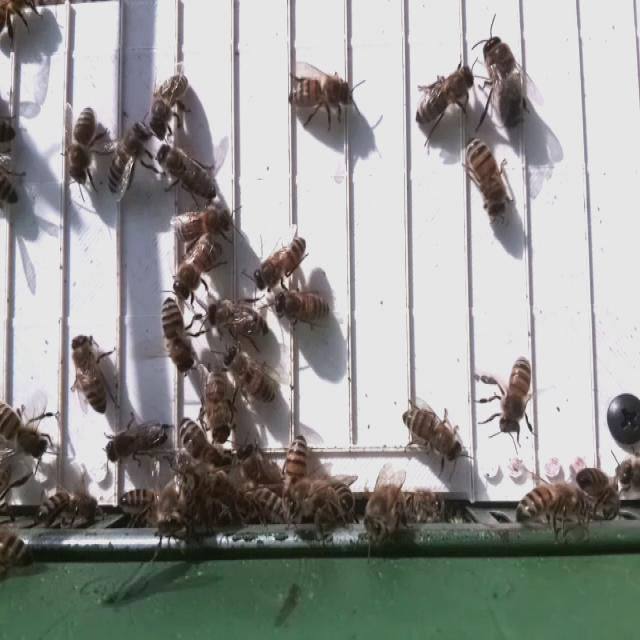Drone: (480, 31, 530, 135)
Worker: (397, 402, 467, 466), (412, 62, 477, 130), (462, 135, 509, 225), (154, 140, 219, 203), (69, 330, 111, 417), (104, 122, 149, 202), (222, 343, 277, 408), (494, 355, 536, 437), (159, 292, 198, 378), (173, 237, 226, 300), (516, 479, 585, 526), (286, 67, 356, 113), (252, 234, 307, 292), (204, 298, 272, 343), (149, 68, 190, 140), (105, 419, 170, 463), (170, 206, 236, 245), (272, 286, 334, 327), (66, 108, 98, 187), (204, 364, 233, 449), (284, 427, 311, 501)
